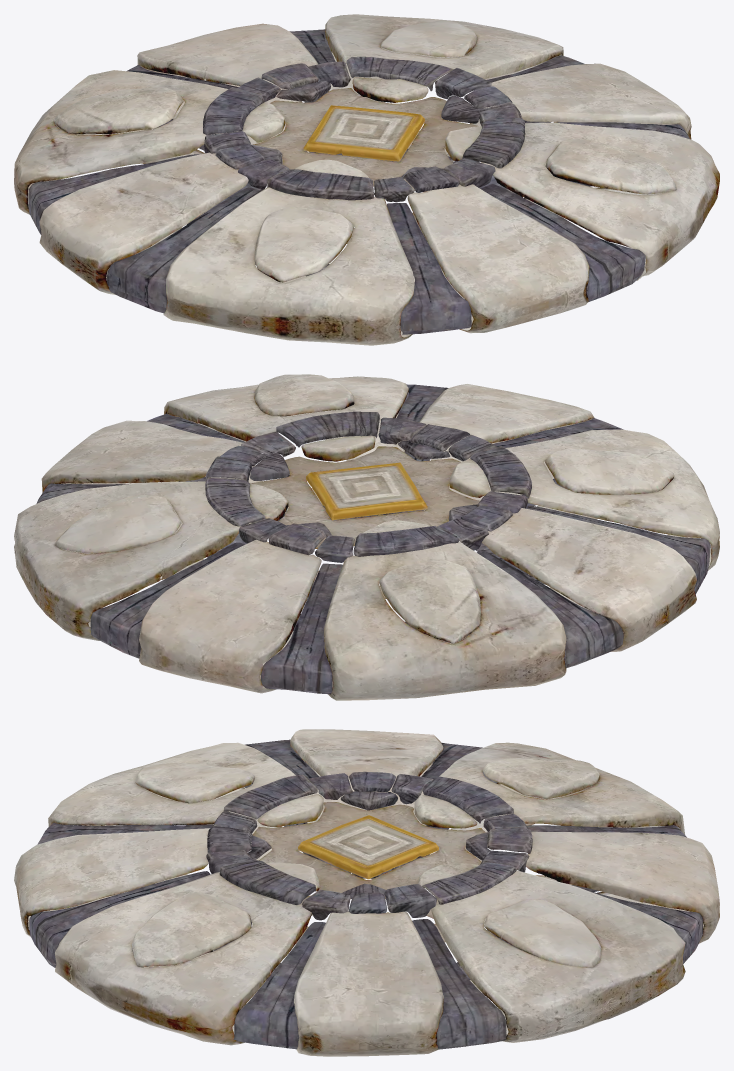
3 views of the same model, one above another, from view 1: azimuth 30°, elevation 25°; view 2: azimuth 150°, elevation 25°; view 3: azimuth 270°, elevation 25° (orthographic).
Visible parts, largest first — view 1: SM_Lodestone_01v1_LOD0; view 2: SM_Lodestone_01v1_LOD0; view 3: SM_Lodestone_01v1_LOD0.
Part boxes in pixels (box(x1,y1,x2,y2)): SM_Lodestone_01v1_LOD0: box(14, 14, 719, 345); SM_Lodestone_01v1_LOD0: box(14, 374, 719, 700); SM_Lodestone_01v1_LOD0: box(14, 729, 719, 1056).
Bounding box in the file's own units: 4.89 × 0.782 × 4.91.
1 material, 1 textured.
